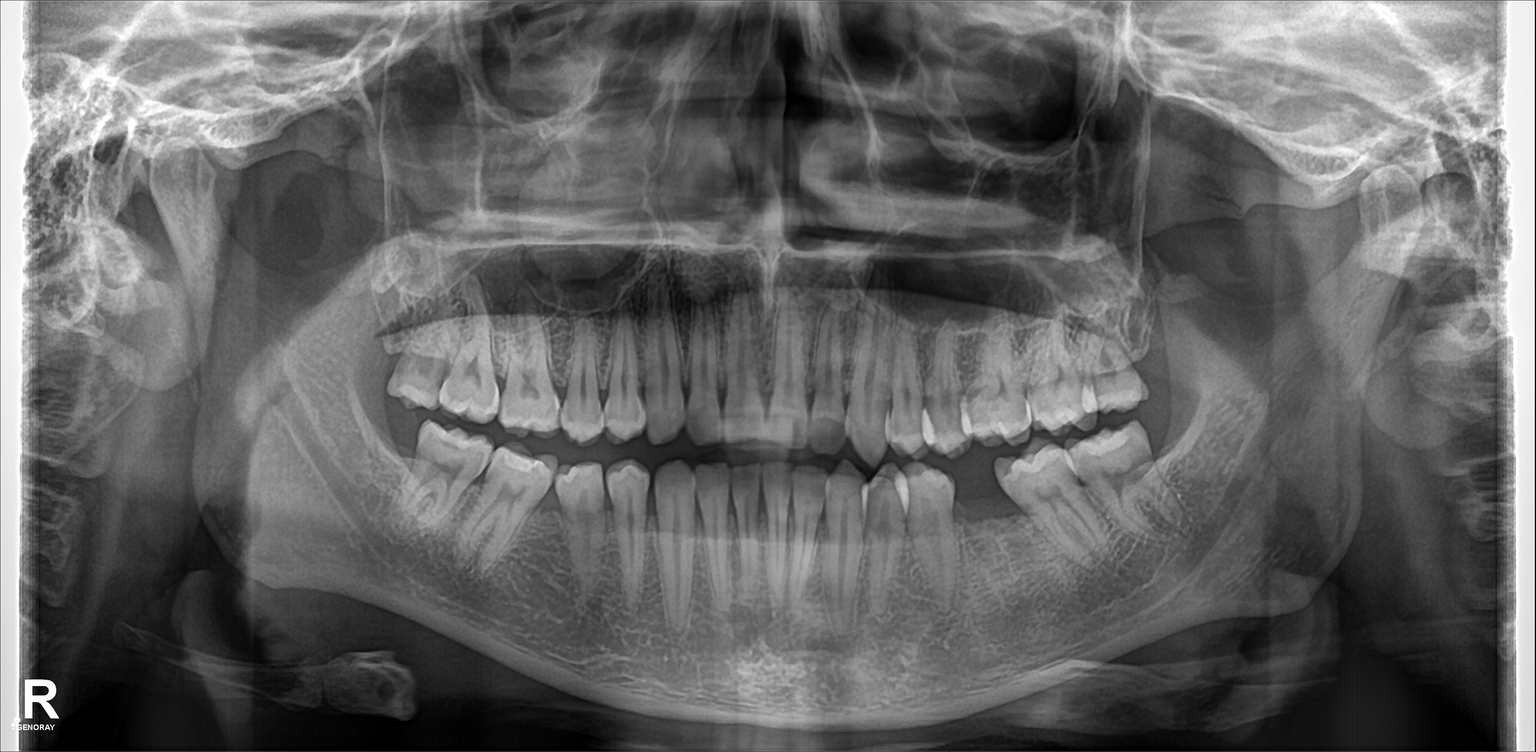Missing Tooth: (953, 471, 1004, 581), (1145, 396, 1210, 460), (369, 298, 408, 399), (369, 421, 411, 503)
